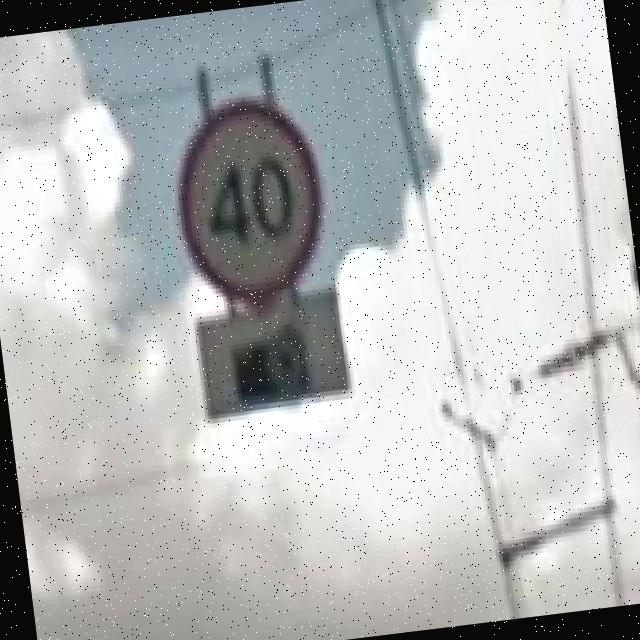Ograniczenie predkosci do 40: (166, 88, 332, 309)
